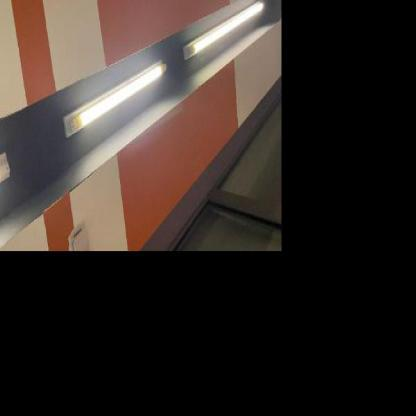light_on: (61, 54, 166, 142), (178, 0, 264, 69), (0, 144, 17, 197)
